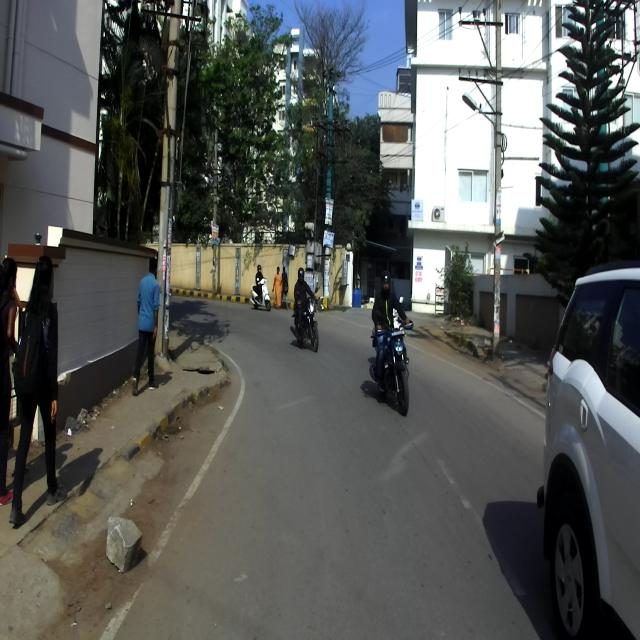electric pole ahead at: (156, 0, 192, 353)
motorcycle ahead at: (370, 315, 415, 410)
person ahead at: (16, 245, 67, 526), (131, 253, 159, 385)
